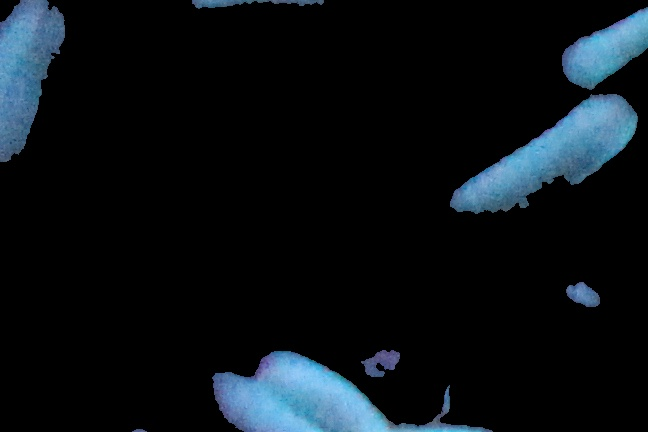larvae: (454, 92, 643, 217), (256, 334, 393, 432), (1, 1, 70, 180), (563, 6, 648, 91), (200, 365, 304, 432)
